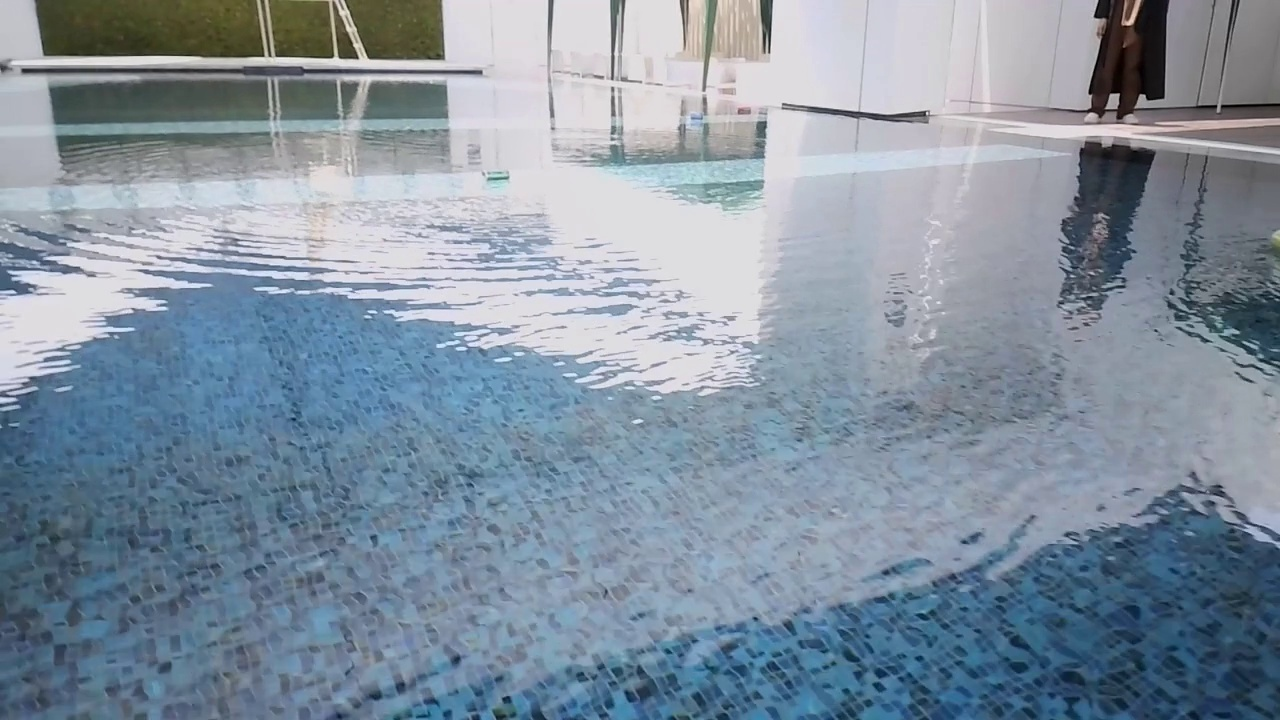debris: (478, 163, 512, 185), (685, 107, 708, 126), (1269, 221, 1280, 255), (734, 103, 754, 117)
